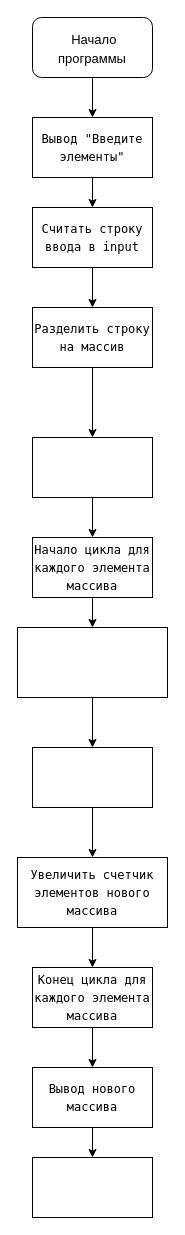
Some shapes in this 185 by 1235 pixel diagram are drawn without their labels. Each missing label, with the centre of its shape:
"Добавить текущий элемент в новый массив" belongs at point (92, 777).
"Если длина текущего элемента меньше или равна 3" belongs at point (92, 662).
"Конец" belongs at point (92, 1187).
"Создать новый массив" belongs at point (92, 467).
